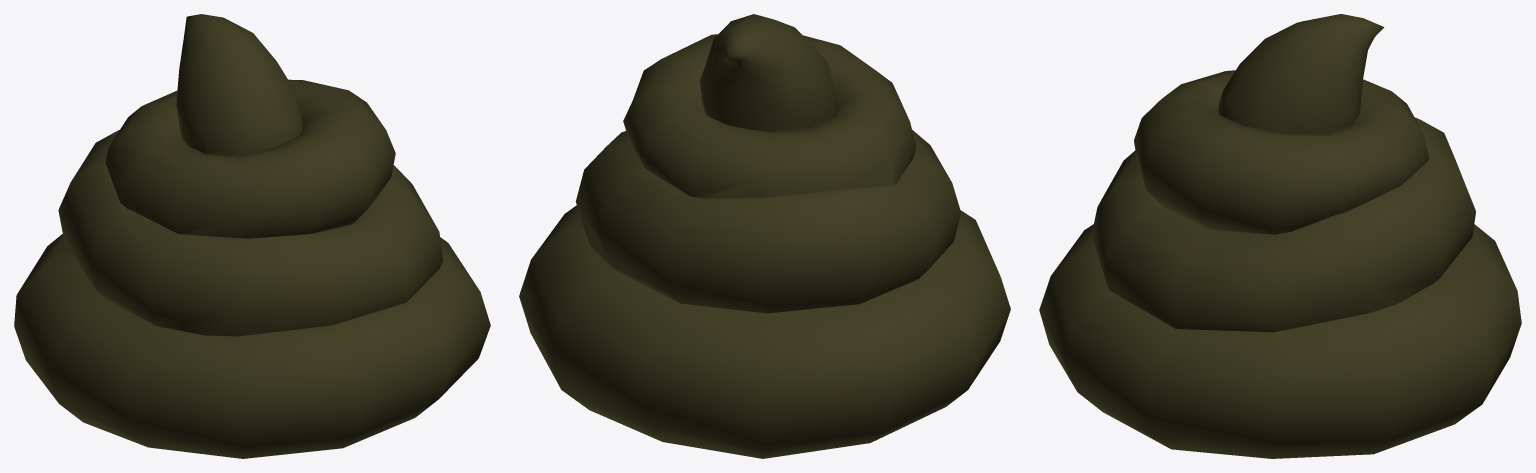
Rendered from Caca_01.fbx.
3 renders of one model, left to right at view 1: azimuth 30°, elevation 25°; view 2: azimuth 150°, elevation 25°; view 3: azimuth 270°, elevation 25°, orthographic. The views are drawn at different scales.
Parts seen in each view (by area): view 1: Caca_01; view 2: Caca_01; view 3: Caca_01.
Boxes of the visible parts, x1,y1,x2,y2 form: Caca_01: (14, 14, 490, 458); Caca_01: (519, 14, 1010, 458); Caca_01: (1039, 14, 1521, 458).
Size of the model in its own units: 50 by 43.08 by 50.03.
